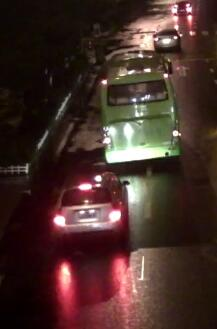bus: (95, 48, 185, 165)
car: (45, 169, 131, 234), (151, 29, 184, 47), (170, 2, 193, 13)
